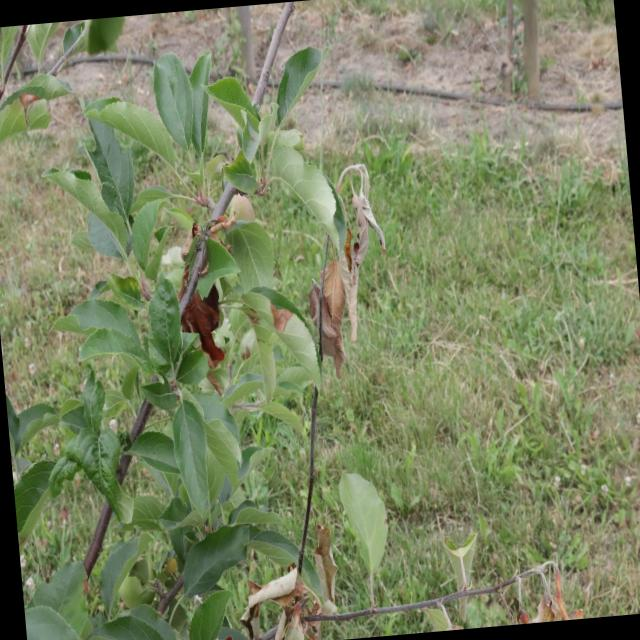-FireBlight-: (307, 160, 397, 376), (171, 257, 226, 370)
